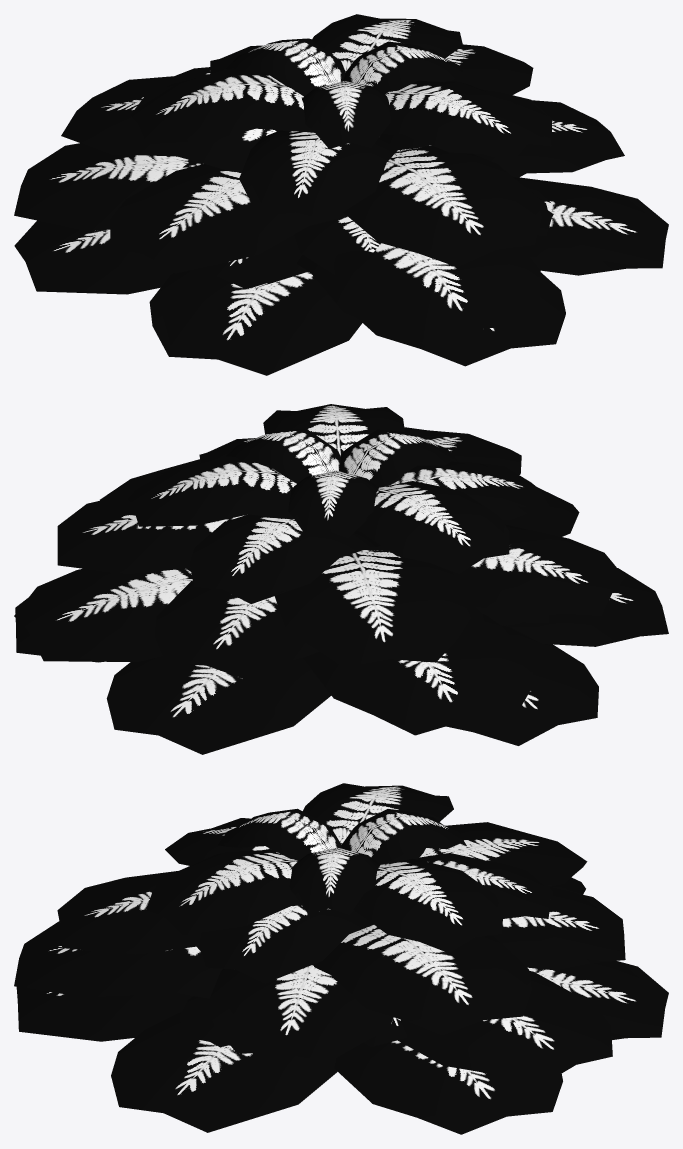
Rendered from Fern.fbx.
3 renders of one model, top to bottom at view 1: azimuth 30°, elevation 25°; view 2: azimuth 150°, elevation 25°; view 3: azimuth 270°, elevation 25°, orthographic.
Parts seen in each view (by area): view 1: Fern_LOD0; view 2: Fern_LOD0; view 3: Fern_LOD0.
Boxes of the visible parts, x1,y1,x2,y2 form: Fern_LOD0: (14, 14, 668, 375); Fern_LOD0: (14, 404, 668, 754); Fern_LOD0: (14, 783, 668, 1134).
Size of what is drawn, in the model's own units: 389 by 131 by 404.
